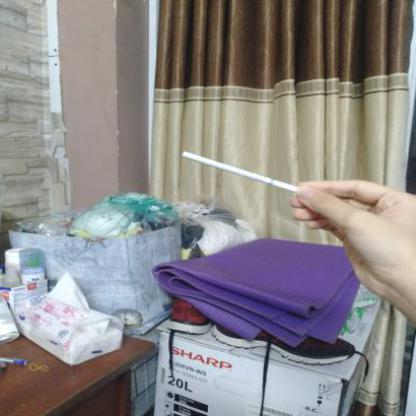cigarette: (180, 150, 296, 193)
